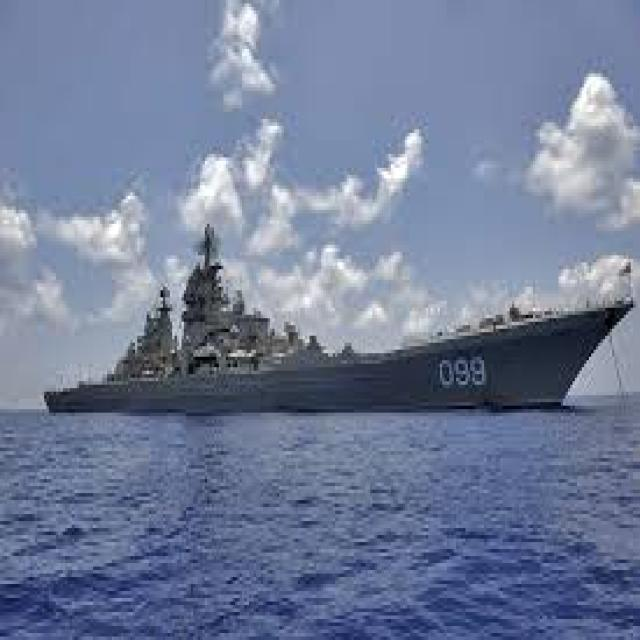navalvessels: (28, 226, 635, 424)
